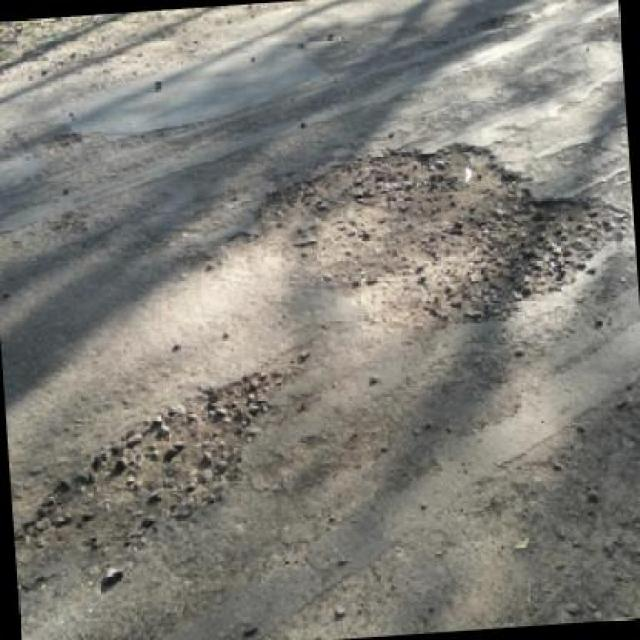pothole1: (232, 126, 636, 346), (4, 367, 304, 561)
